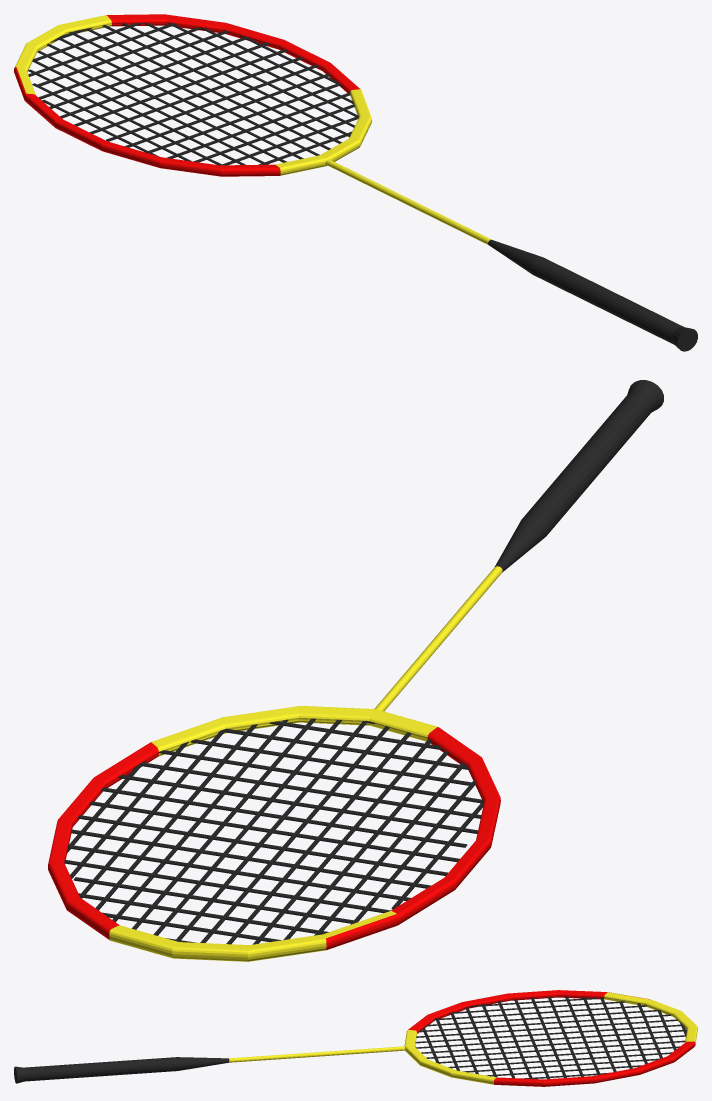
The model's file is 06ce9acc-f66d-499c-a98e-1036cf3d2c12.glb.
3 views of the same model, one above another, from view 1: azimuth 30°, elevation 25°; view 2: azimuth 150°, elevation 25°; view 3: azimuth 270°, elevation 25° (orthographic). The views are drawn at different scales.
Visible parts, largest first — view 1: Cylinder003, Cylinder004, Box041, Box039, Box040, Box042, Box038, Box057, Box043, Box051, Box055, Box067 (+13 smaller); view 2: Cylinder003, Cylinder004, Box051, Box057, Box055, Box067, Box063, Box060, Box058, Box061, Box041, Box050 (+15 smaller); view 3: Cylinder003, Cylinder004, Box041, Box039, Box040, Box038, Box042, Box043, Box037, Box044, Box049, Box045 (+17 smaller).
Part boxes in pixels (box(x1,y1,x2,y2)): Cylinder003: box(14, 14, 372, 176); Cylinder004: box(325, 159, 697, 351); Box041: box(59, 38, 303, 159); Box039: box(69, 32, 319, 155); Box040: box(47, 43, 286, 162); Box042: box(87, 28, 330, 149); Box038: box(37, 51, 268, 164); Box057: box(89, 57, 302, 133); Box043: box(102, 25, 341, 143); Box051: box(74, 49, 287, 126); Box055: box(60, 42, 269, 118); Box067: box(106, 64, 318, 141); Cylinder003: box(48, 706, 500, 961); Cylinder004: box(374, 380, 663, 711); Box051: box(78, 815, 447, 875); Box057: box(89, 801, 459, 862); Box055: box(71, 829, 430, 888); Box067: box(101, 787, 467, 847); Box063: box(118, 774, 477, 833); Box060: box(67, 844, 410, 900); Box058: box(64, 859, 390, 913); Box061: box(138, 762, 481, 818); Box041: box(200, 726, 389, 942); Box050: box(158, 750, 483, 803); Cylinder003: box(404, 990, 697, 1086); Cylinder004: box(14, 1046, 405, 1083); Box041: box(415, 1024, 680, 1043); Box039: box(416, 1029, 686, 1048); Box040: box(416, 1019, 678, 1037); Box038: box(419, 1014, 670, 1032); Box042: box(421, 1035, 685, 1053); Box043: box(426, 1040, 685, 1058); Box037: box(425, 1010, 657, 1026); Box044: box(436, 1046, 679, 1063); Box049: box(433, 1005, 646, 1020); Box045: box(448, 1052, 671, 1068).
Size of the model in its own units: 346513 by 27136 by 1086452.
